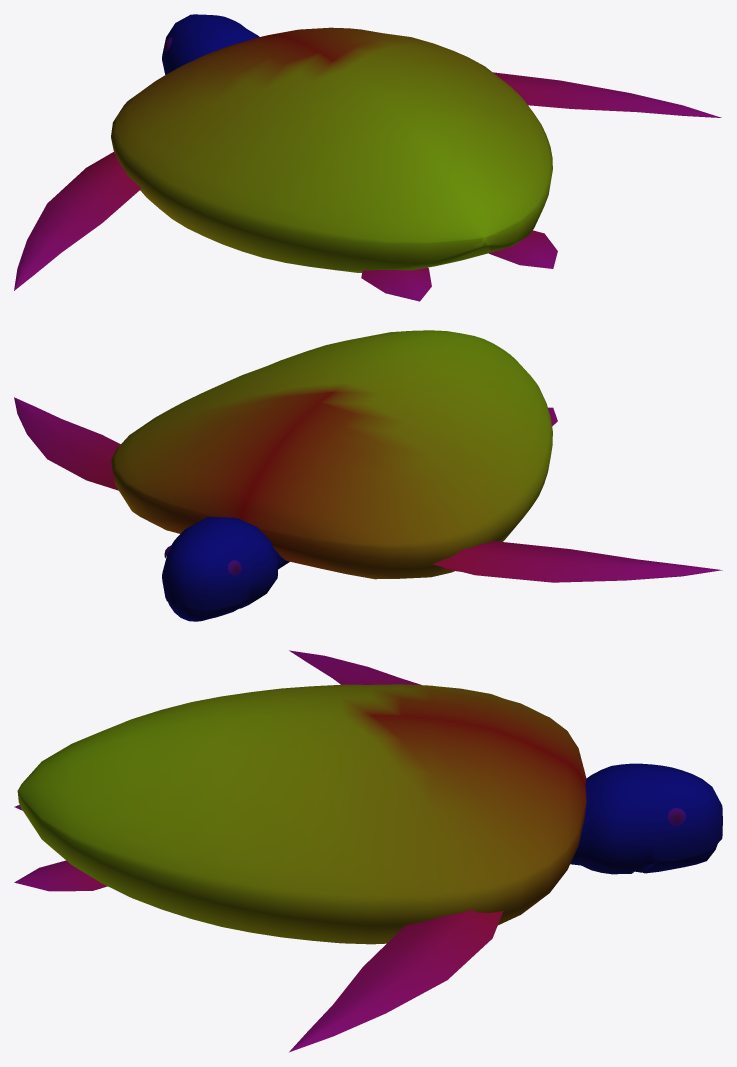
Rendered from sea_turtle_loggerhead_lo.glb.
3 views of the same model, one above another, from view 1: azimuth 30°, elevation 25°; view 2: azimuth 150°, elevation 25°; view 3: azimuth 270°, elevation 25° (orthographic). The views are drawn at different scales.
Parts seen in each view (by area): view 1: sea_turtle_loggerhead_lo; view 2: sea_turtle_loggerhead_lo; view 3: sea_turtle_loggerhead_lo.
Part boxes in pixels (bbox=[...]): sea_turtle_loggerhead_lo: bbox=[14, 14, 721, 301]; sea_turtle_loggerhead_lo: bbox=[14, 330, 722, 621]; sea_turtle_loggerhead_lo: bbox=[14, 650, 722, 1052].
Bounding box in the file's own units: 1.67 × 0.3058 × 1.24.
